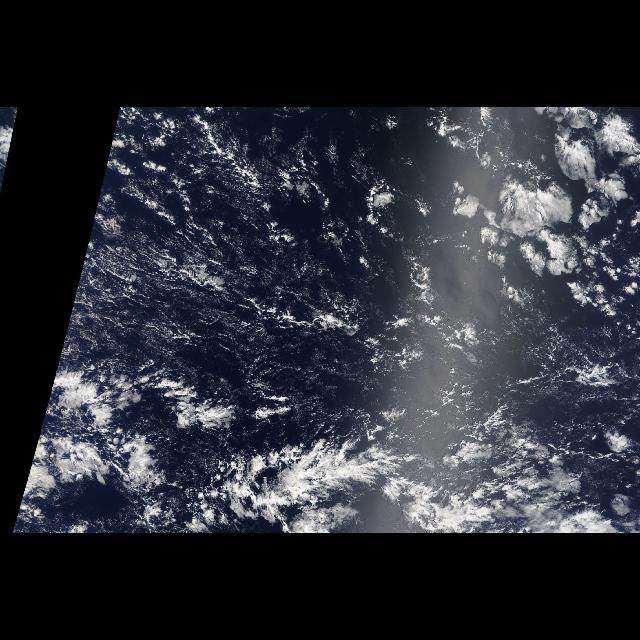Fish: (172, 422, 598, 532)
Flower: (411, 107, 639, 339)
Sugar: (57, 108, 387, 386)
